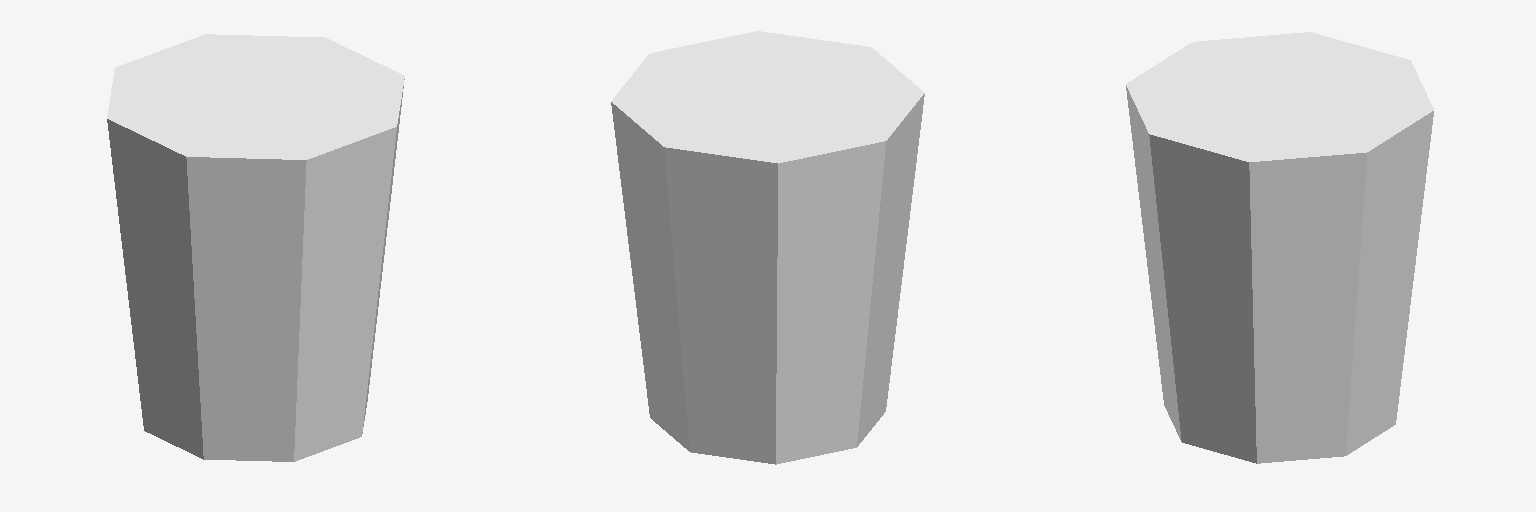
The model's file is liquid.obj.
3 views of the same model, side by side, from view 1: azimuth 30°, elevation 25°; view 2: azimuth 150°, elevation 25°; view 3: azimuth 270°, elevation 25° (orthographic).
Parts seen in each view (by area): view 1: Cylinder.001; view 2: Cylinder.001; view 3: Cylinder.001.
Part boxes in pixels (bbox=[...]): Cylinder.001: bbox=[107, 34, 404, 461]; Cylinder.001: bbox=[611, 31, 924, 464]; Cylinder.001: bbox=[1126, 32, 1433, 463].
Bounding box in the file's own units: 2.42 × 2.75 × 2.42.